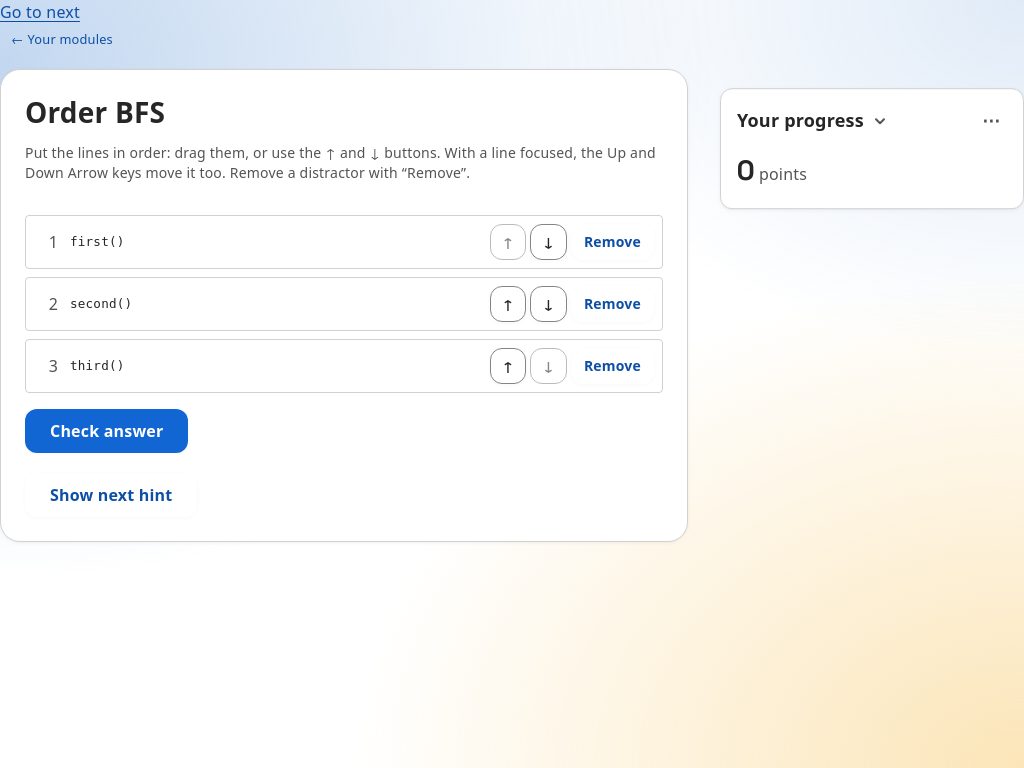
code activities › resets attempt result and unlocks when navigating to a new activity
The image size is (1024, 768).
Submit correct answer on activity 7
Click the button "Check answer" at [107, 431], box [25, 409, 188, 453]
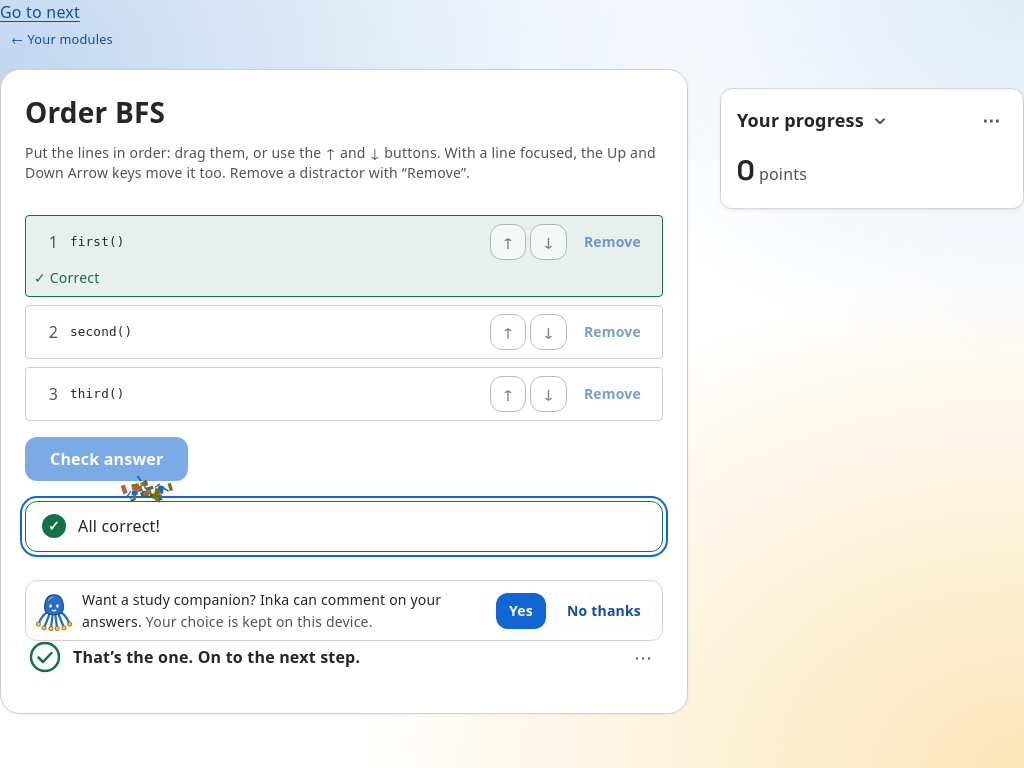
Expected: the text "All correct!" is shown, [78, 514, 160, 539]
Expected: the text "Correct" is shown, [50, 268, 100, 287]
Expected: the button "Check answer" is disabled, [25, 437, 188, 481]
Navigate to activity 8
Click the link "Go to next" at [40, 12], box [0, 1, 80, 23]
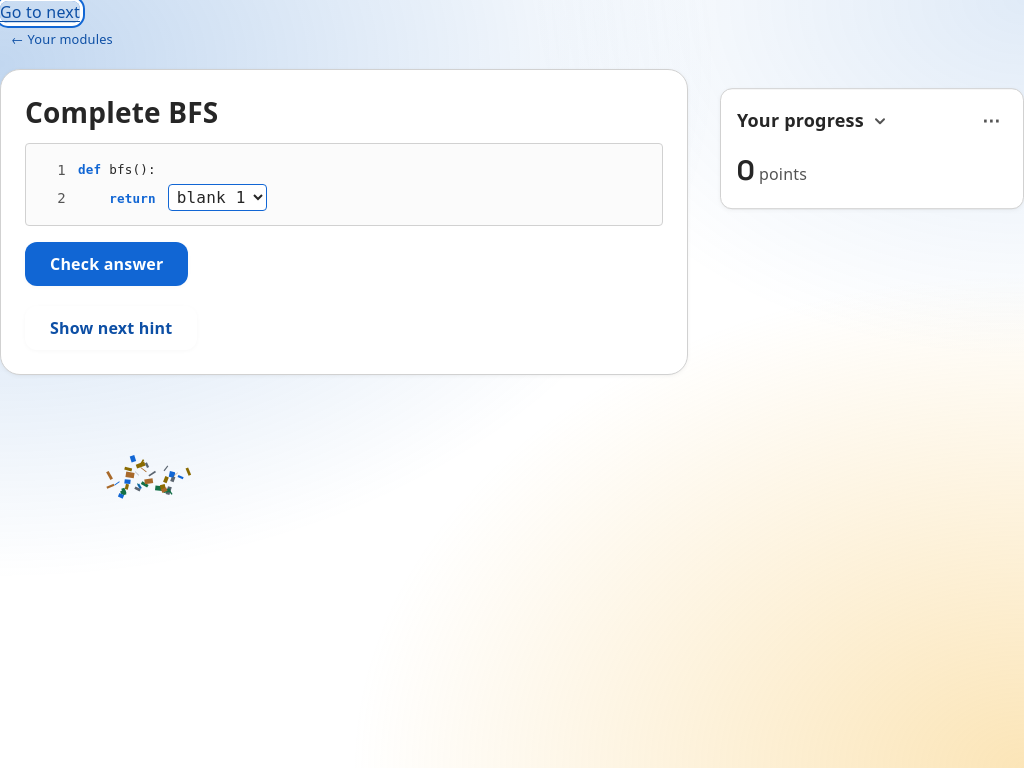
Expected: the dropdown named "Blank 1" is shown, [168, 184, 267, 211]
Expected: the button "Check answer" is enabled, [25, 242, 188, 286]
Expected: the text "All correct!" is gone
